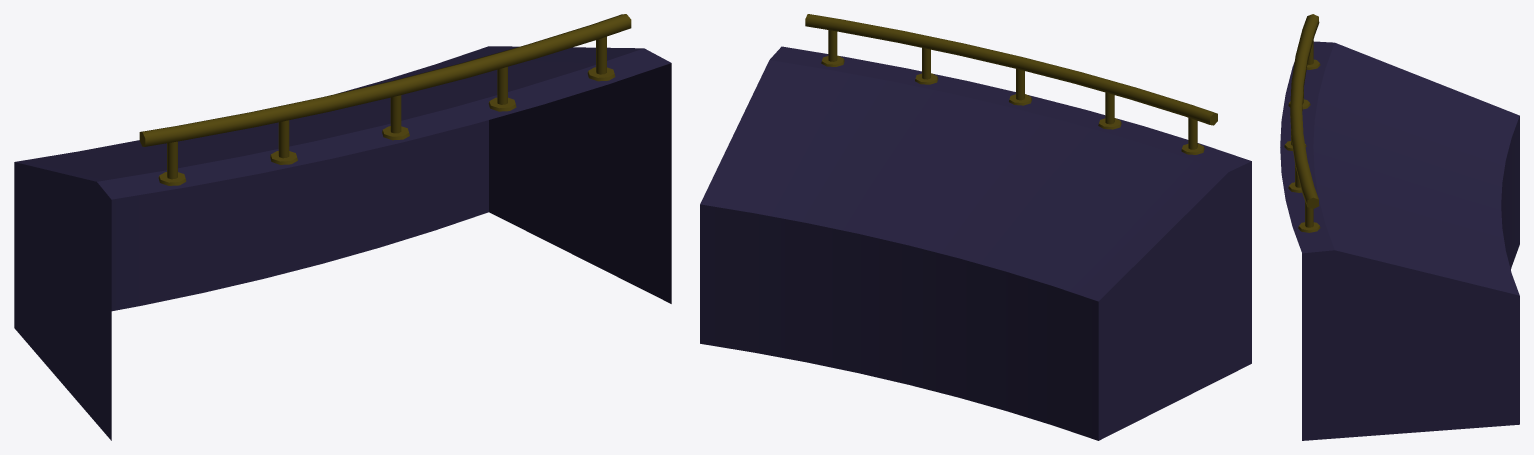
Rendered from podium.fbx.
3 renders of one model, left to right at view 1: azimuth 30°, elevation 25°; view 2: azimuth 150°, elevation 25°; view 3: azimuth 270°, elevation 25°, orthographic. The views are drawn at different scales.
Parts seen in each view (by area): view 1: podium; view 2: podium; view 3: podium.
Boxes of the visible parts, bbox=[...] form: podium: bbox=[14, 14, 671, 440]; podium: bbox=[700, 14, 1251, 440]; podium: bbox=[1280, 14, 1519, 440].
Size of the model in its own units: 4.46 by 2.24 by 2.13.
